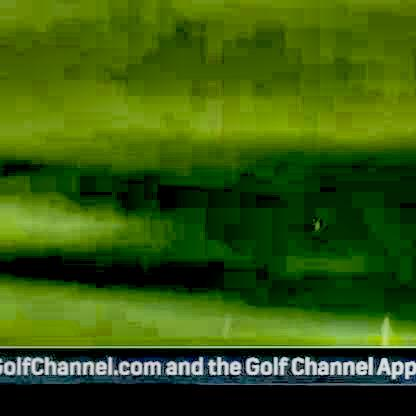golfball: (310, 219, 317, 226)
